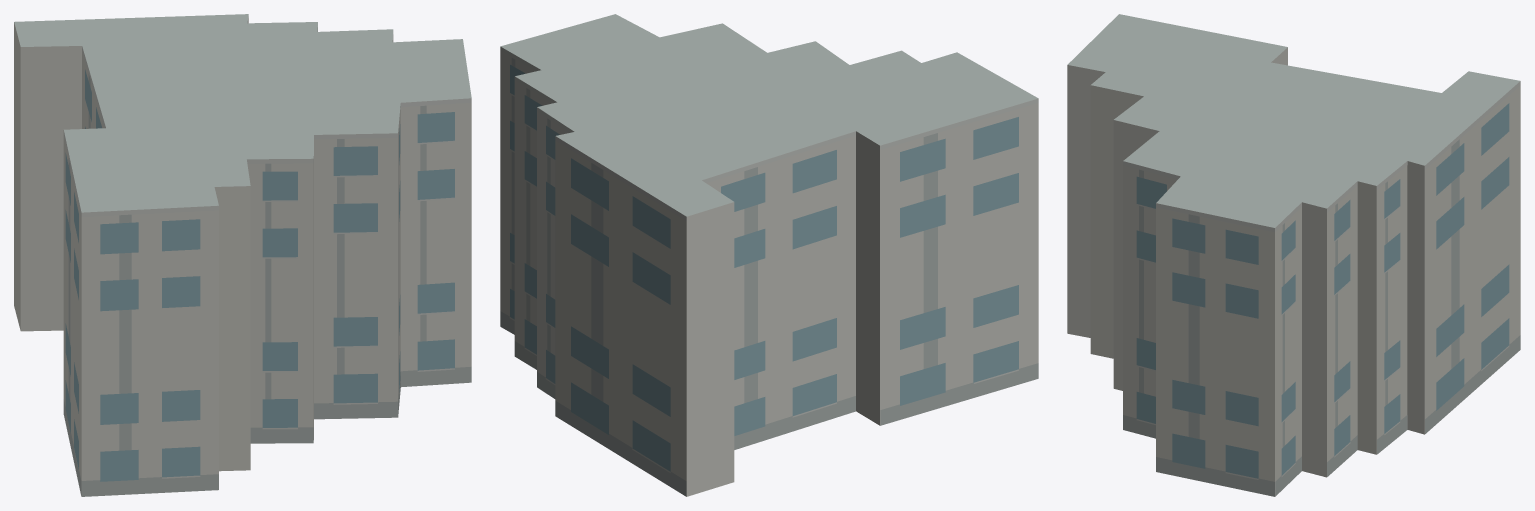
File: survey-upis-32721854.glb
3 views of the same model, side by side, from view 1: azimuth 30°, elevation 25°; view 2: azimuth 150°, elevation 25°; view 3: azimuth 270°, elevation 25° (orthographic). The views are drawn at different scales.
Visible parts, largest first — view 1: survey-upis-32721854.tmp; view 2: survey-upis-32721854.tmp; view 3: survey-upis-32721854.tmp.
Boxes of the visible parts, x1,y1,x2,y2 form: survey-upis-32721854.tmp: (14, 14, 471, 496); survey-upis-32721854.tmp: (500, 14, 1038, 496); survey-upis-32721854.tmp: (1067, 14, 1520, 496).
Size of the model in its own units: 26.05 by 15.25 by 23.31.
